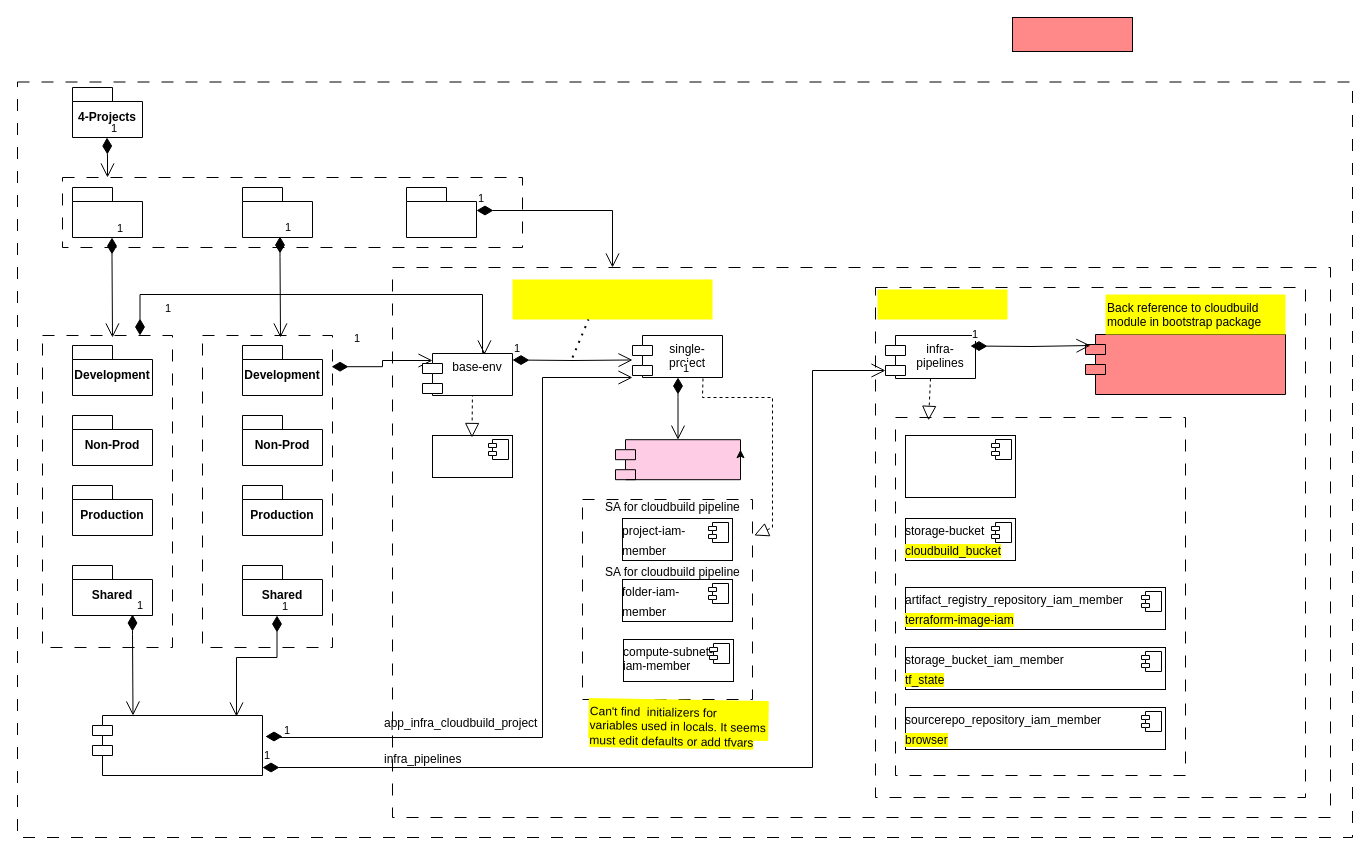
Some shapes in this 1370 by 855 pixel diagram are drawn without their labels. The centre of each missing label's shape, as x and y in pixels:
4 example projects: shared, floating, peering, restricted_shared_vpc: (612,299)
bootstrap / tf_cloudbuild_workspace tf_workspace: (1185,364)
BU-1: (107,212)
BU-2: (277,212)
csr-repository app_infra_repo gcp_policies: (960,466)
Entirely for cloudbuild: (942,304)
example_infra_pipeline.tf: (177,745)
Folder: (472,456)
modules: (441,212)
project-factory project: (677,459)
Really bad dependency: (1072,34)
